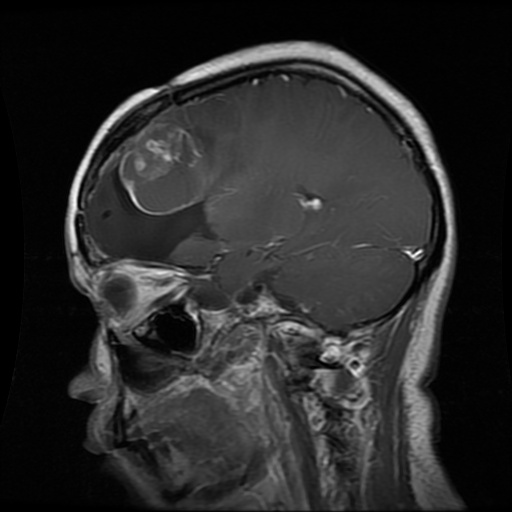glioma: (87, 121, 227, 262)
